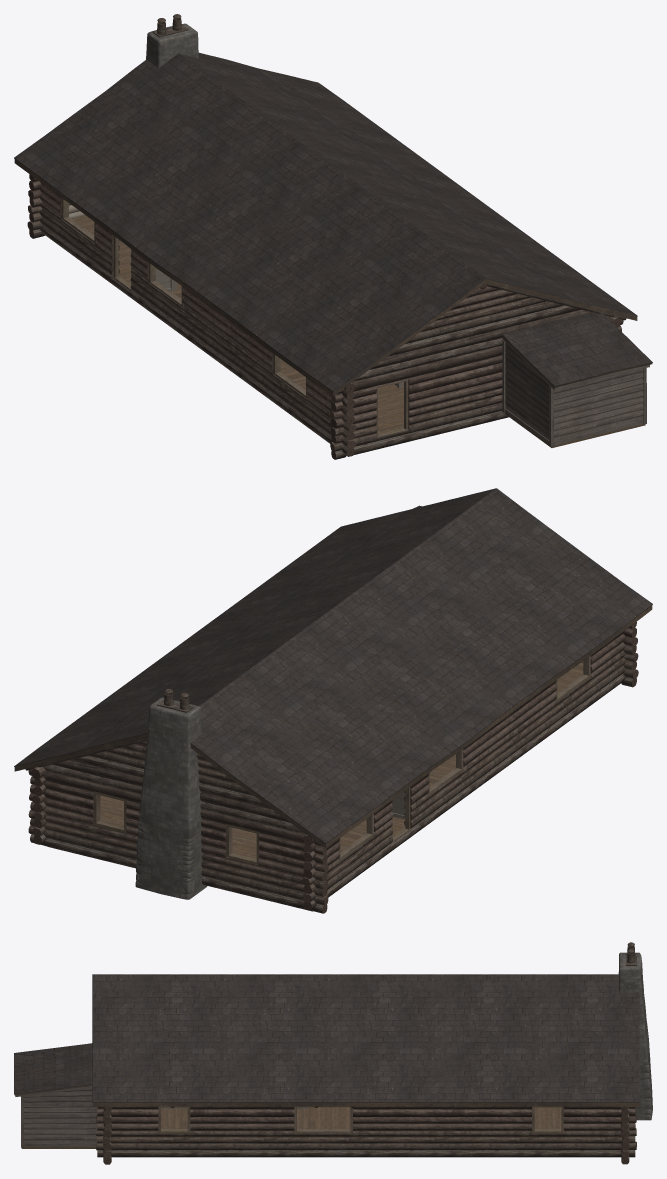
The model's file is cabin_large_house.glb.
3 renders of one model, top to bottom at view 1: azimuth 30°, elevation 25°; view 2: azimuth 150°, elevation 25°; view 3: azimuth 270°, elevation 25°, orthographic. The views are drawn at different scales.
Visible parts, largest first — view 1: 0003_Cabin_Large_01_a, 0000_Cabin_Large_01_a, 0006_Cabin_Large_01_a, 0002_Cabin_Large_01_a, 0007_Cabin_Large_01_a, 0009_Cabin_Large_01_a; view 2: 0003_Cabin_Large_01_a, 0000_Cabin_Large_01_a, 0009_Cabin_Large_01_a, 0002_Cabin_Large_01_a, 0007_Cabin_Large_01_a; view 3: 0003_Cabin_Large_01_a, 0000_Cabin_Large_01_a, 0002_Cabin_Large_01_a, 0006_Cabin_Large_01_a, 0007_Cabin_Large_01_a, 0009_Cabin_Large_01_a.
Boxes of the visible parts, x1,y1,x2,y2 form: 0003_Cabin_Large_01_a: (14, 52, 652, 391); 0000_Cabin_Large_01_a: (29, 14, 626, 459); 0006_Cabin_Large_01_a: (502, 336, 649, 446); 0002_Cabin_Large_01_a: (14, 159, 652, 459); 0007_Cabin_Large_01_a: (71, 215, 645, 447); 0009_Cabin_Large_01_a: (146, 23, 198, 67); 0003_Cabin_Large_01_a: (14, 488, 652, 843); 0000_Cabin_Large_01_a: (25, 626, 636, 913); 0009_Cabin_Large_01_a: (135, 697, 207, 899); 0002_Cabin_Large_01_a: (14, 605, 652, 913); 0007_Cabin_Large_01_a: (100, 662, 583, 858); 0003_Cabin_Large_01_a: (14, 974, 639, 1102); 0000_Cabin_Large_01_a: (96, 942, 636, 1159); 0002_Cabin_Large_01_a: (14, 1084, 638, 1164); 0006_Cabin_Large_01_a: (15, 1086, 97, 1147); 0007_Cabin_Large_01_a: (21, 1107, 561, 1148); 0009_Cabin_Large_01_a: (618, 952, 652, 1120).
Bounding box in the file's own units: 35.88 × 21.23 × 76.07.
10 materials, 10 textured.
